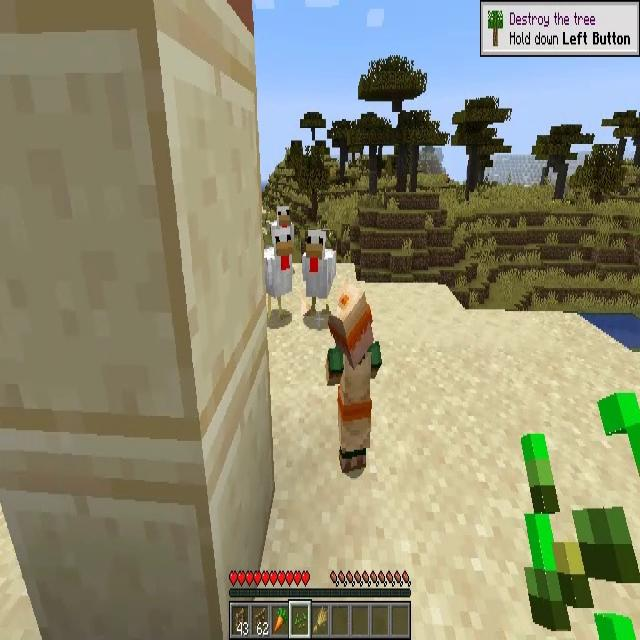duck: (301, 230, 337, 316), (264, 228, 294, 316), (270, 206, 292, 234)
people: (327, 286, 382, 474)
